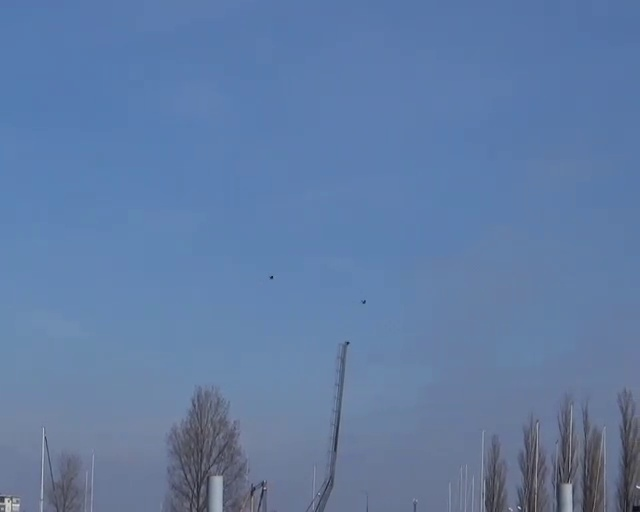BIRD: (360, 299, 366, 304)
